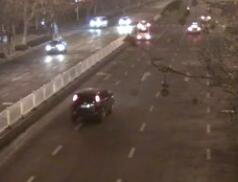car: (69, 86, 118, 119), (42, 35, 68, 53), (87, 13, 111, 29), (185, 20, 202, 35), (134, 28, 152, 42), (116, 14, 132, 28), (135, 18, 153, 27), (200, 8, 210, 22)
